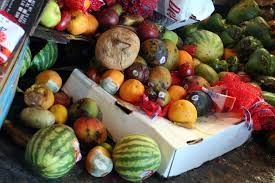kitchen_waste: (19, 121, 86, 181), (111, 133, 165, 181), (92, 24, 146, 71), (182, 27, 229, 63), (164, 98, 202, 129), (70, 116, 110, 144), (84, 144, 115, 180), (18, 104, 56, 131), (20, 83, 56, 110), (242, 44, 274, 74), (139, 37, 170, 66), (117, 77, 147, 106), (68, 96, 101, 121), (35, 1, 66, 27), (98, 69, 126, 97), (33, 68, 65, 92), (66, 8, 88, 36), (181, 74, 210, 93), (97, 8, 122, 30), (176, 61, 194, 77)
